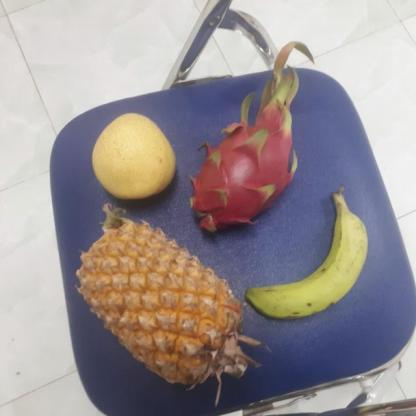banana: (247, 195, 372, 321)
pear: (89, 110, 179, 199)
pineapple: (84, 212, 249, 385)
pitaya: (189, 112, 297, 234)
